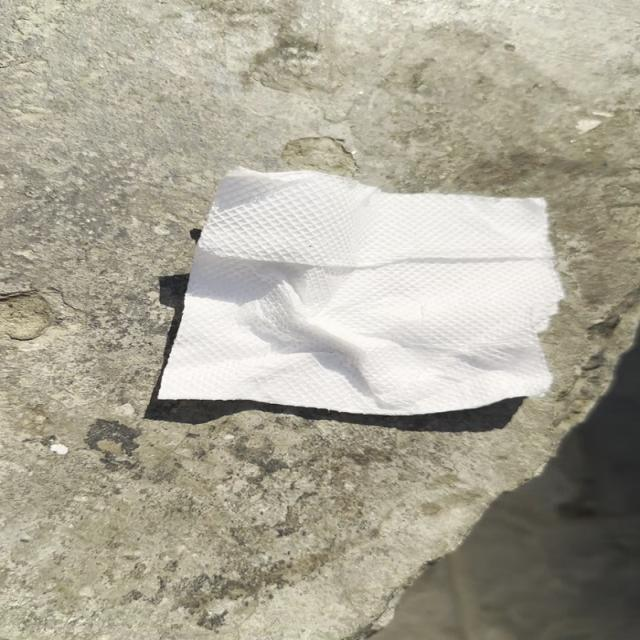tissue: (153, 164, 561, 413)
